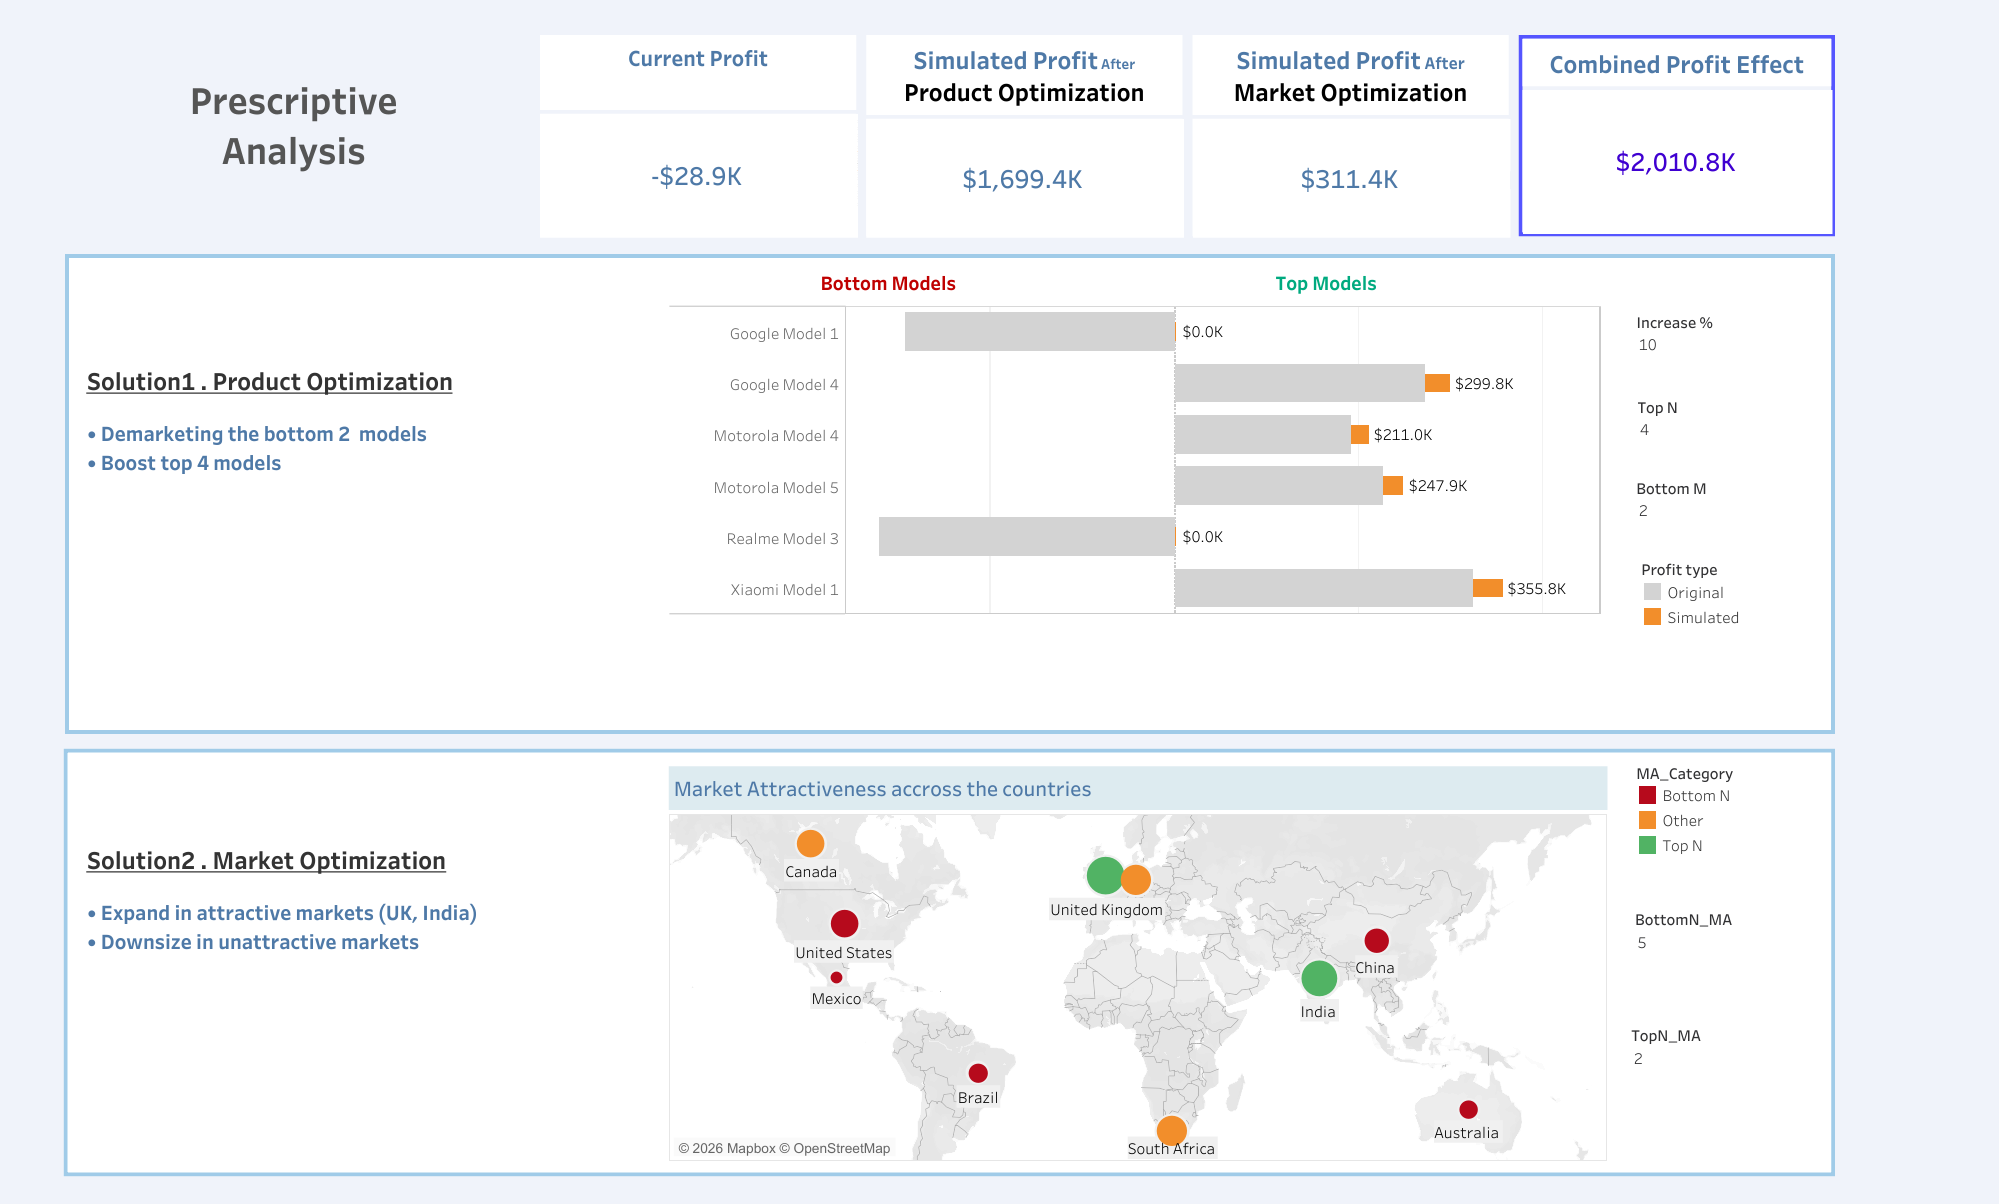

This screenshot's page, from the dashboard's own definition file:
{"tool":"tableau","page":{"name":"2. Prescriptive Analysis","canvas":[1000,1000],"units":"permille","ordinal":3},"visuals":[{"type":"text","box":[31.9,10.4,230.1,184.8]},{"type":"worksheet","title":"Total Profit","mark":"Automatic","box":[267.8,25.4,163.1,174.4]},{"type":"worksheet","title":"Sheet 43","mark":"Automatic","box":[430.9,25.4,163.1,174.4]},{"type":"worksheet","title":"Sheet 45","mark":"Automatic","box":[594.1,25.4,163.1,174.4]},{"type":"worksheet","title":"Sheet 46","mark":"Automatic","box":[757.2,25.4,162.6,174.4]},{"type":"worksheet","title":"Before-After","mark":"Automatic","rows":["Model"],"cols":["Calculation_533395091928510465","Calculation_533395091930267657"],"box":[334.8,217.1,466,377.6]},{"type":"text","box":[42,254,262.8,189.4]},{"type":"parameter","param":"[Parameters].[Parameter 10]","box":[818,256.4,86.3,82]},{"type":"parameter","param":"[Parameters].[Parameter 9]","box":[818.6,326.8,88.8,83.1]},{"type":"parameter","param":"[Parameters].[Top N (copy)_533395091927502848]","box":[818,393.8,87.5,67]},{"type":"legend","title":"Before-After","param":"[federated.133nf490kqtoen14o6drk1ew0xuc].[:Measure Names]","box":[819.9,460.7,84.4,115.5]},{"type":"legend","title":"Market Attractiveness by Map","param":"[federated.133nf490kqtoen14o6drk1ew0xuc].[usr:Calculation_746753125572345894:nk:","box":[817.2,629.3,83.4,118.9]},{"type":"worksheet","title":"Market Attractiveness by Map","mark":"Automatic","box":[334.2,636.3,469.7,327.9]},{"type":"text","box":[42,644.3,289.1,203.2]},{"type":"parameter","param":"[Parameters].[Parameter 14]","box":[817.8,751.7,84,88.9]},{"type":"parameter","param":"[Parameters].[Parameter 15]","box":[815.6,848.7,83.4,88.9]}]}

Visuals, with their boxes on the dashboard's canvas, which has no fixed pixel size, in thousandths of its width and height (x1, y1, x2, y2). These are canvas units, not pixel positions in the 1999x1204 screenshot, which may show the page scaled, cropped or inside an application window:
text: 32 10 262 195
"Total Profit" worksheet: 268 25 431 200
"Sheet 43" worksheet: 431 25 594 200
"Sheet 45" worksheet: 594 25 757 200
"Sheet 46" worksheet: 757 25 920 200
"Before-After" worksheet: 335 217 801 595
text: 42 254 305 443
parameter: 818 256 904 338
parameter: 819 327 907 410
parameter: 818 394 906 461
"Before-After" legend: 820 461 904 576
"Market Attractiveness by Map" legend: 817 629 901 748
"Market Attractiveness by Map" worksheet: 334 636 804 964
text: 42 644 331 848
parameter: 818 752 902 841
parameter: 816 849 899 938
